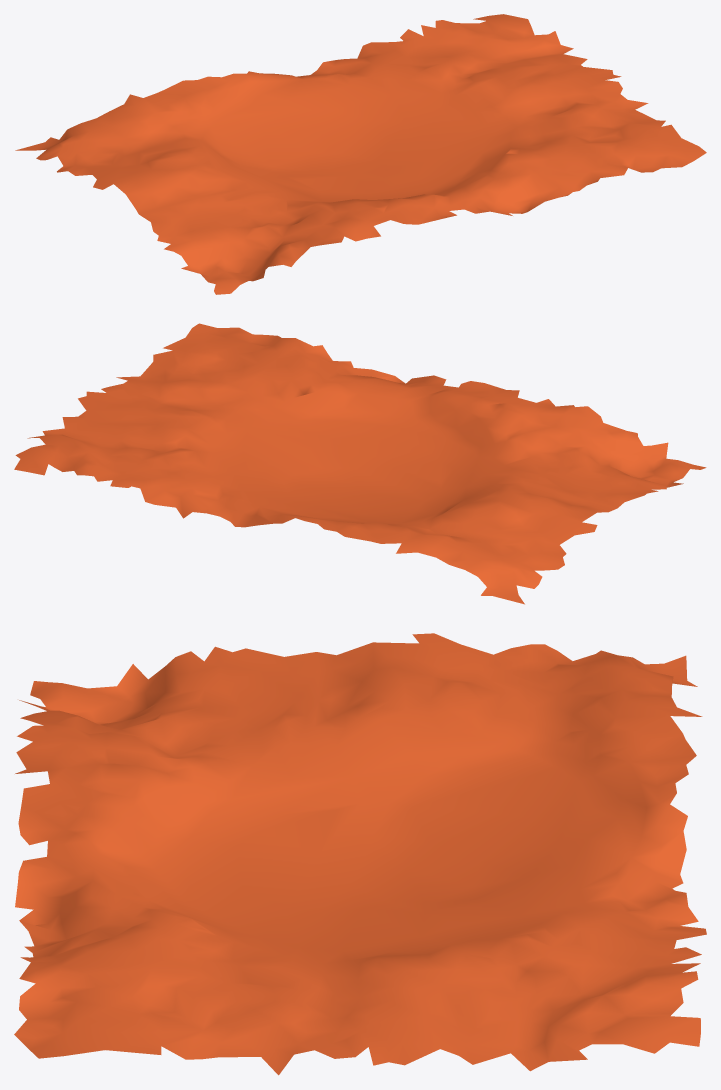
File: landscape.fbx
The picture shows the model from 3 angles, top to bottom: view 1: azimuth 30°, elevation 25°; view 2: azimuth 150°, elevation 25°; view 3: azimuth 270°, elevation 25°; orthographic projection. The views are drawn at different scales.
Parts seen in each view (by area): view 1: landscape; view 2: landscape; view 3: landscape.
Boxes of the visible parts, bbox=[...] form: landscape: bbox=[15, 14, 706, 294]; landscape: bbox=[14, 323, 706, 604]; landscape: bbox=[14, 633, 706, 1075].
Size of the model in its own units: 58.49 by 4.19 by 39.39.
